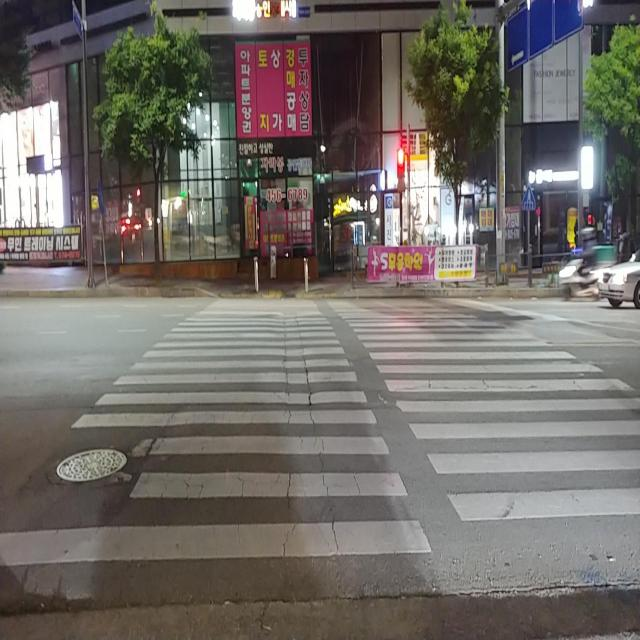빨간불: (396, 144, 406, 184)
횡단보도: (0, 295, 640, 574)
